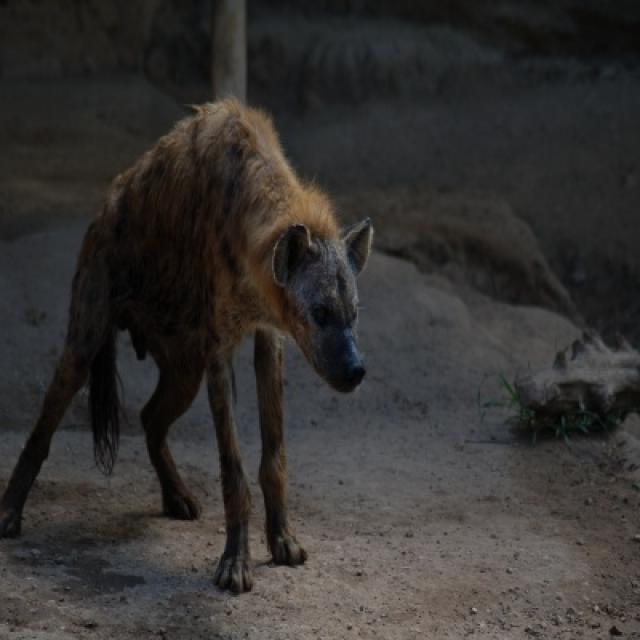hyena: (0, 98, 374, 597)
